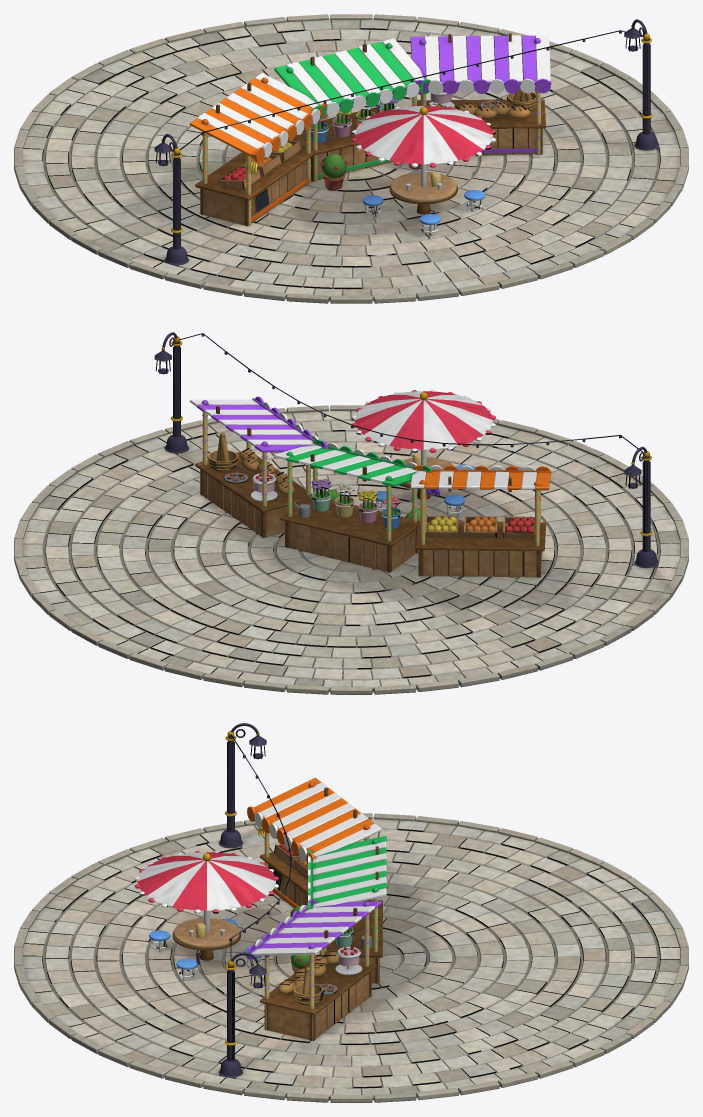
The model's file is market.glb.
3 views of the same model, one above another, from view 1: azimuth 30°, elevation 25°; view 2: azimuth 150°, elevation 25°; view 3: azimuth 270°, elevation 25° (orthographic).
Visible parts, largest first — view 1: cyl; view 2: cyl; view 3: cyl.
Part boxes in pixels (box(x1,y1,x2,y2)): cyl: box(14, 14, 688, 303); cyl: box(14, 332, 688, 694); cyl: box(14, 723, 688, 1102).
Bounding box in the file's own units: 22.4 × 4.56 × 22.4.
Materials: 1 (1 with a texture image).
